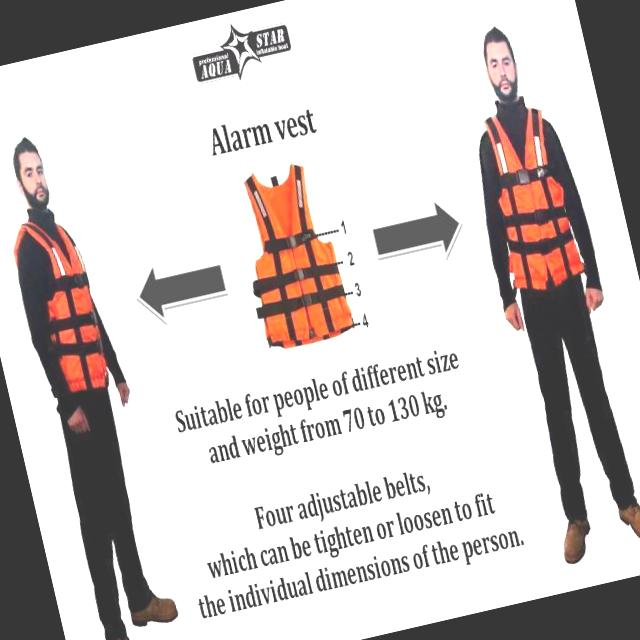vest: (468, 100, 595, 300), (9, 205, 122, 405), (236, 200, 368, 358)
